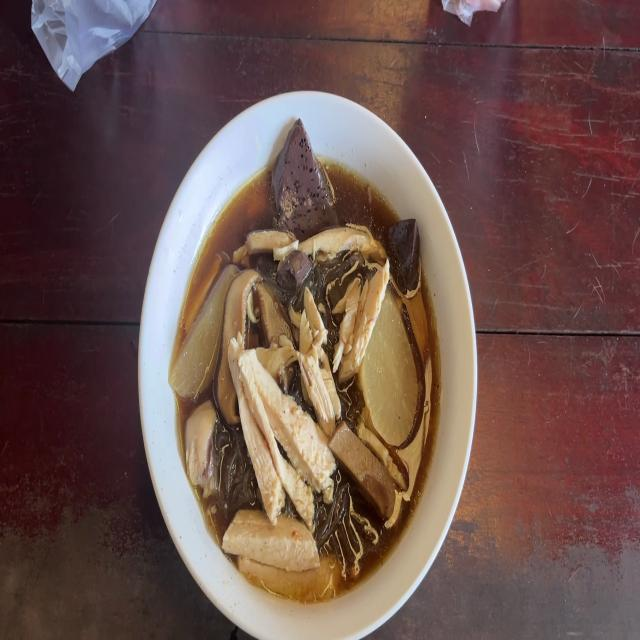boiled_chicken_blood_jelly: (269, 122, 330, 224), (386, 219, 420, 291), (279, 254, 308, 286)
chicken_shredded: (228, 342, 321, 508), (227, 501, 334, 597), (337, 268, 390, 373), (299, 286, 333, 422), (290, 225, 380, 262), (186, 406, 222, 478), (237, 219, 288, 264)
daikon_radish: (360, 315, 419, 440), (172, 258, 222, 391)
noodle: (179, 151, 438, 604)
